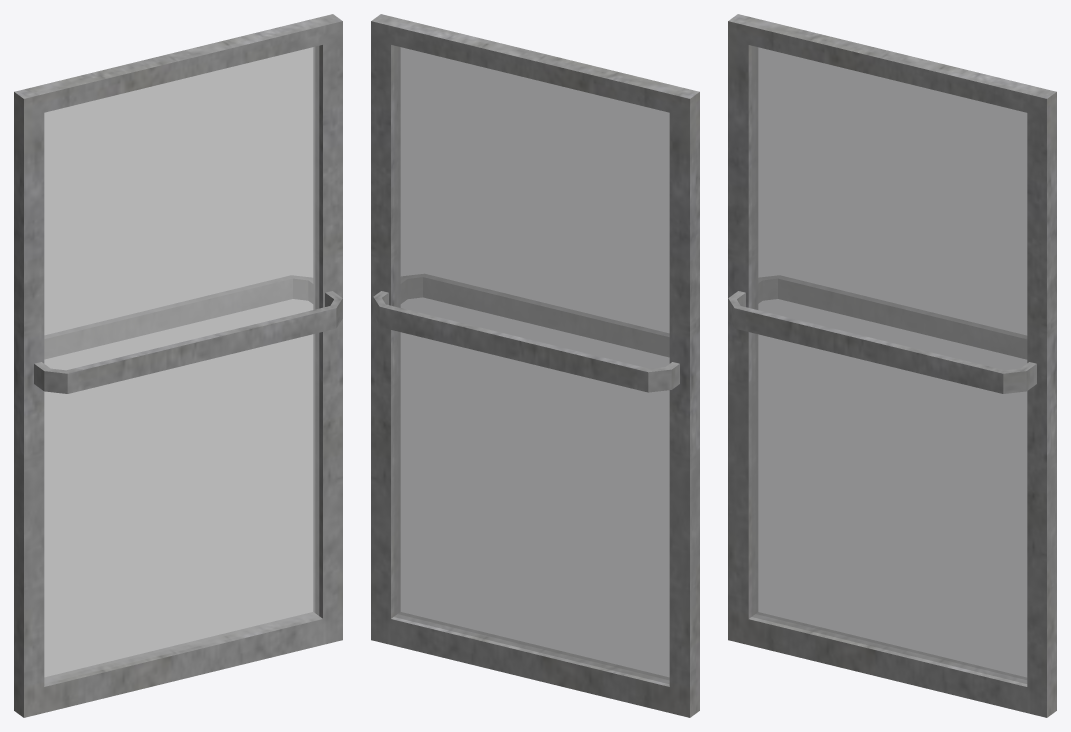
The model's file is MainDoor.glb.
3 renders of one model, left to right at view 1: azimuth 30°, elevation 25°; view 2: azimuth 150°, elevation 25°; view 3: azimuth 330°, elevation 25°, orthographic.
Parts seen in each view (by area): view 1: Door_03; view 2: Door_03; view 3: Door_03.
Boxes of the visible parts, x1,y1,x2,y2 form: Door_03: (14,14,342,717); Door_03: (371,14,699,717); Door_03: (728,14,1056,717).
Size of the model in its own units: 1.45 by 2.69 by 0.3554.
2 materials, 1 textured.
